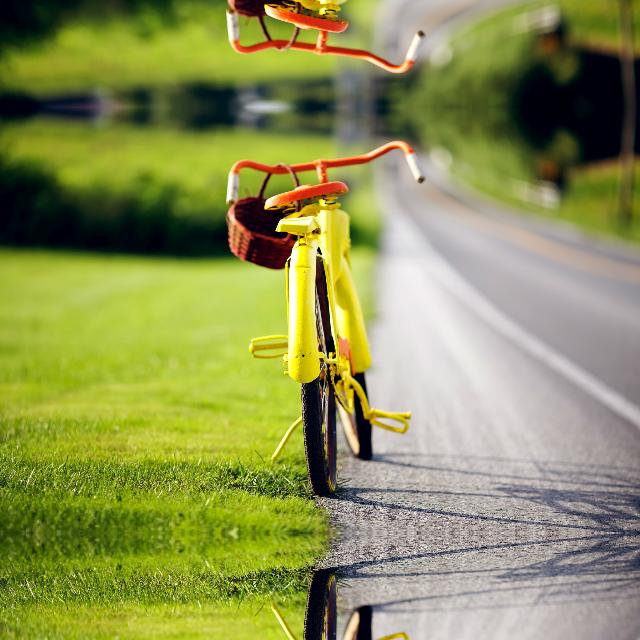obstacle: (217, 122, 455, 494), (217, 0, 455, 89), (217, 571, 455, 640)
